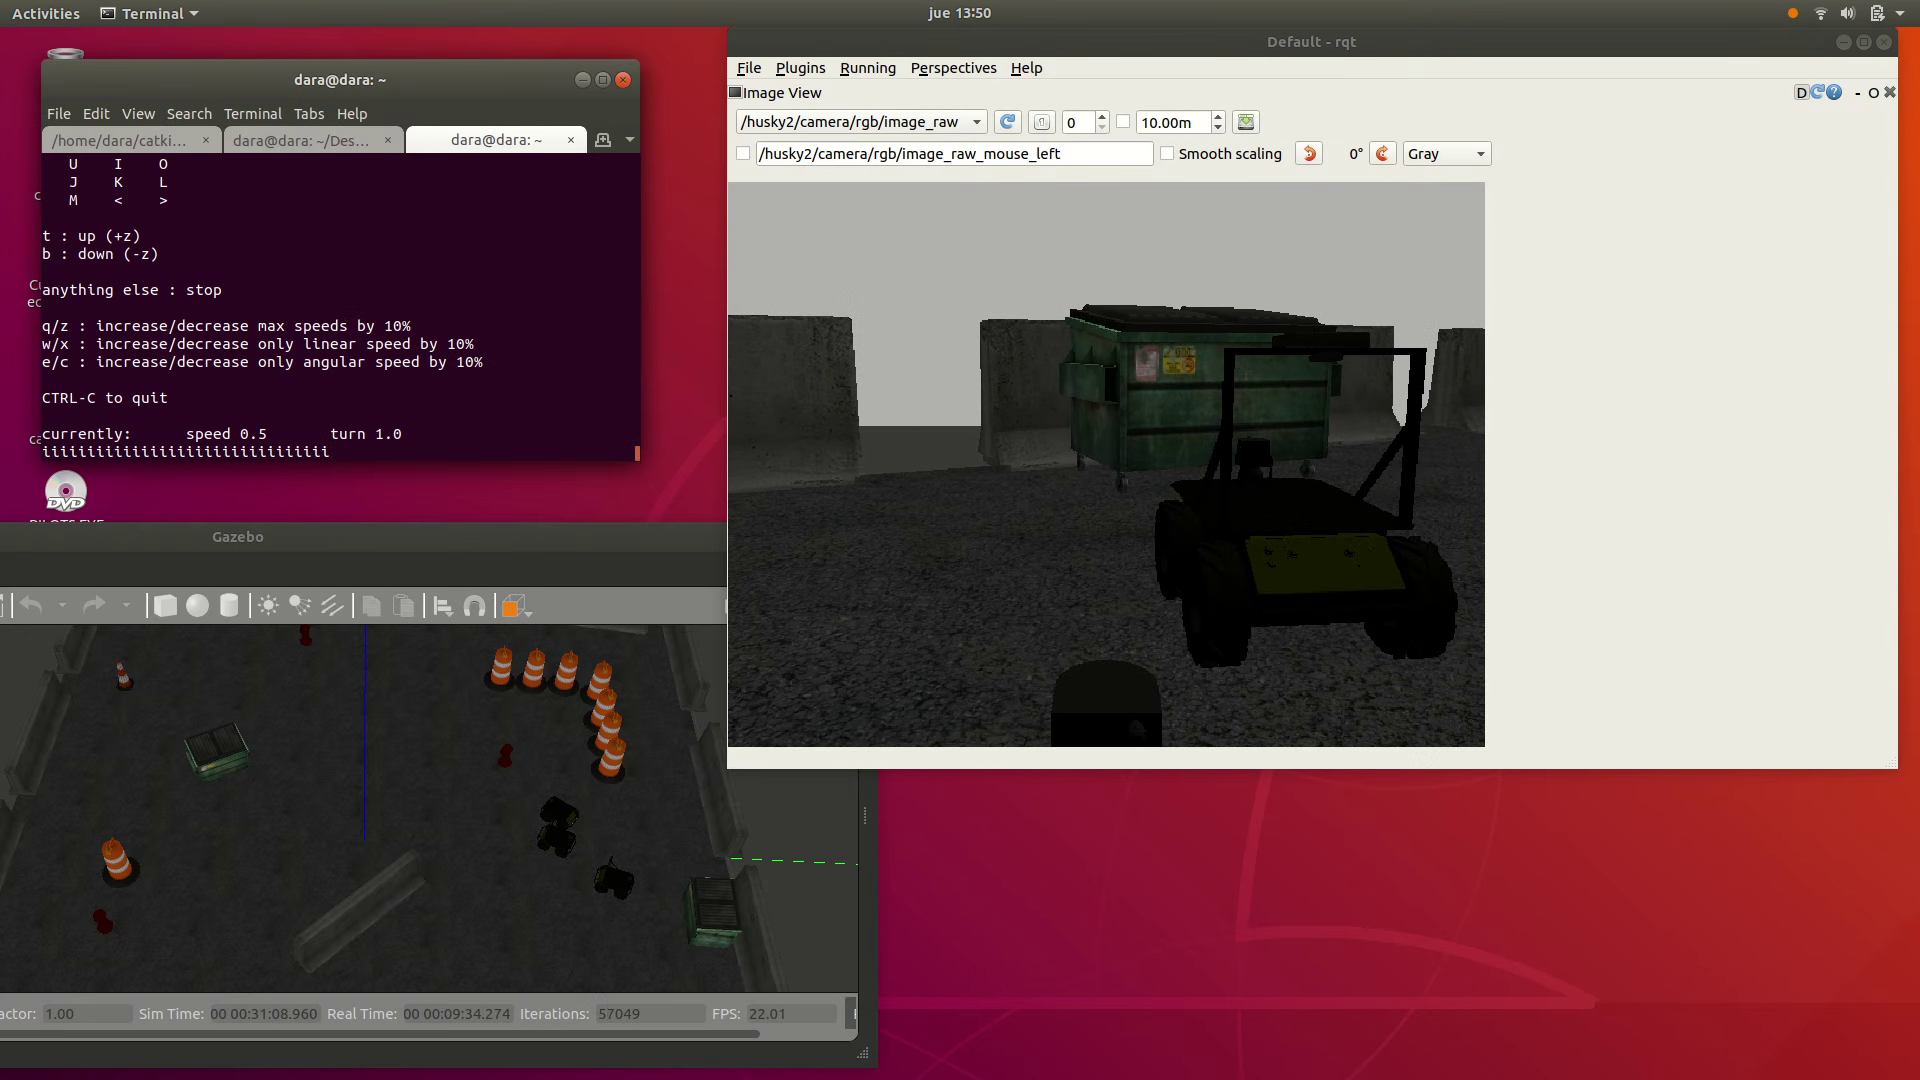husky: (1155, 477, 1459, 667), (540, 796, 581, 834), (593, 865, 636, 899), (536, 824, 578, 859)
